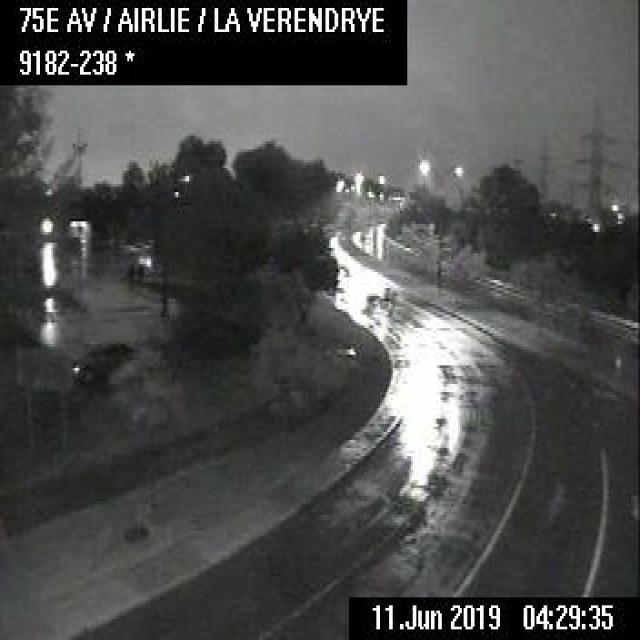vehicle: (70, 339, 131, 383)
